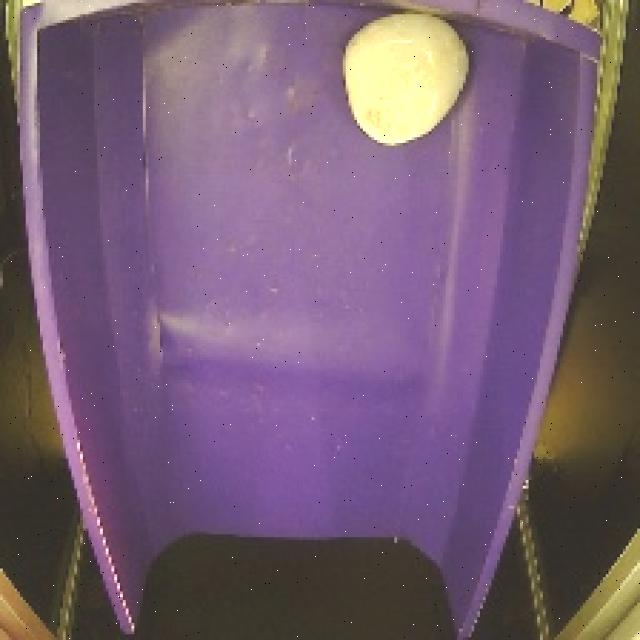cobbles: (338, 4, 484, 154)
